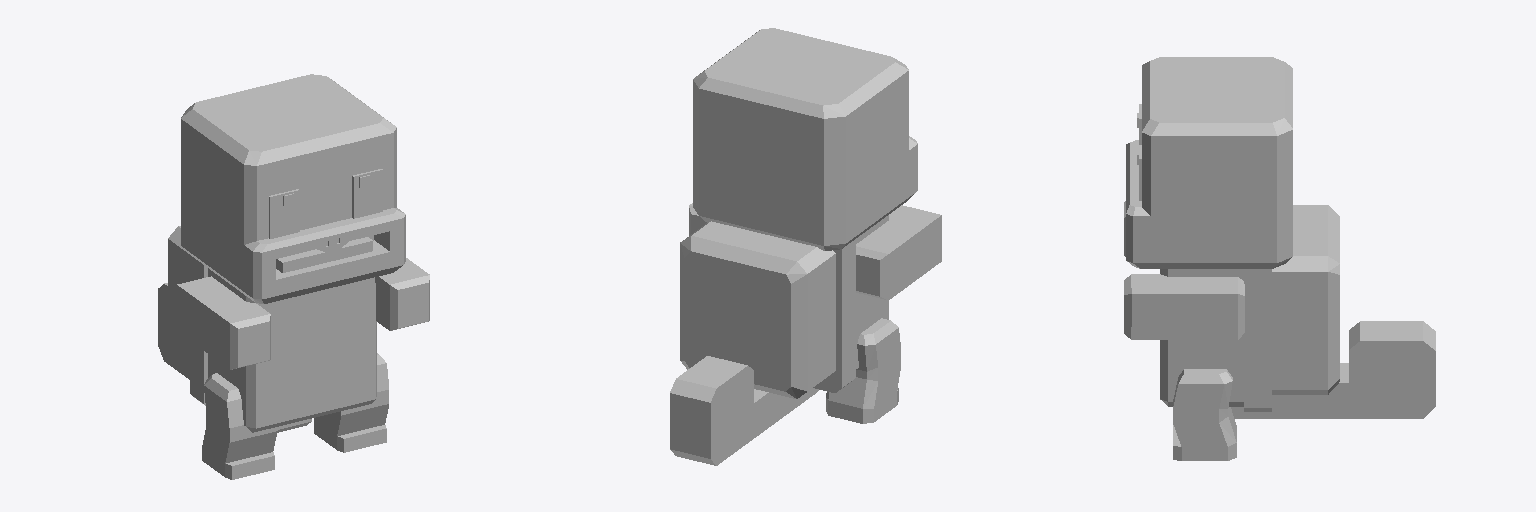
Rendered from 007 - Squirtle - Shiny.obj.
3 views of the same model, side by side, from view 1: azimuth 30°, elevation 25°; view 2: azimuth 150°, elevation 25°; view 3: azimuth 270°, elevation 25° (orthographic).
Parts seen in each view (by area): view 1: 007 - Squirtle - Shiny; view 2: 007 - Squirtle - Shiny; view 3: 007 - Squirtle - Shiny.
Boxes of the visible parts, x1,y1,x2,y2 form: 007 - Squirtle - Shiny: [158, 74, 429, 479]; 007 - Squirtle - Shiny: [670, 28, 941, 465]; 007 - Squirtle - Shiny: [1124, 57, 1435, 460].
Bounding box in the file's own units: 1.13 × 1.79 × 1.52.